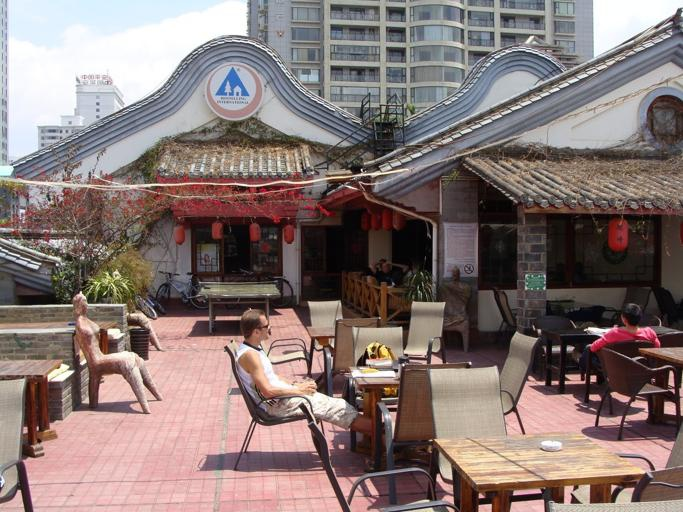non-vehicle: (221, 268, 292, 310), (154, 269, 210, 310), (133, 286, 166, 318)
